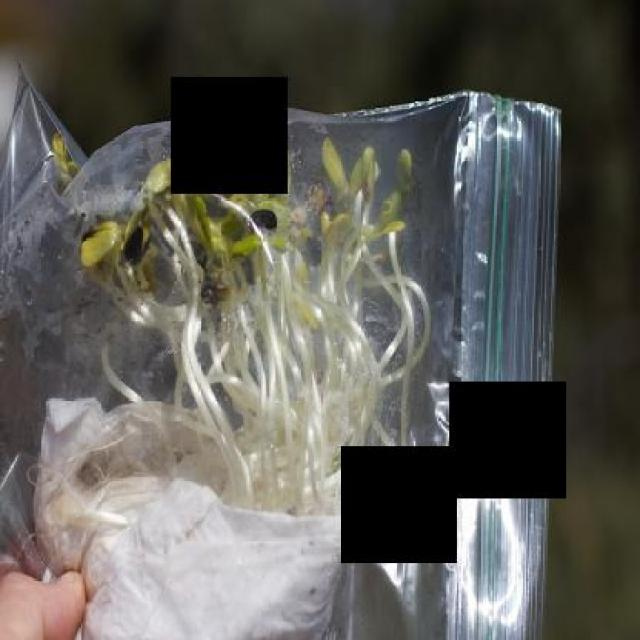plastic bag: (32, 59, 626, 638)
